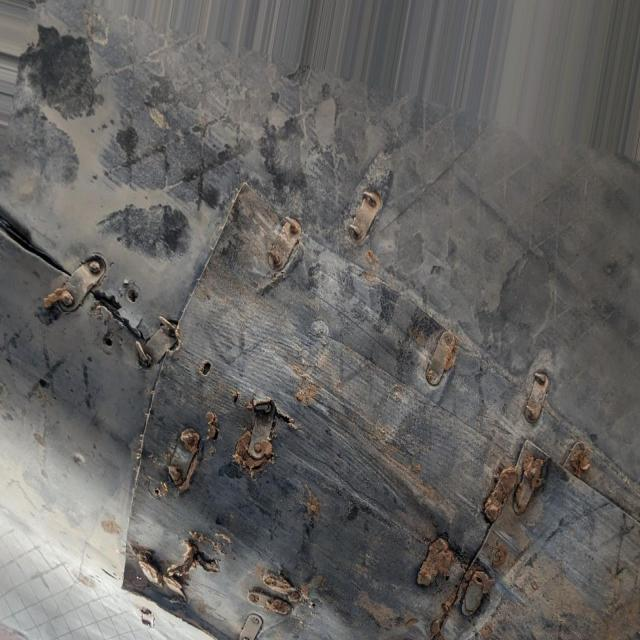patch work: (0, 173, 639, 640)
